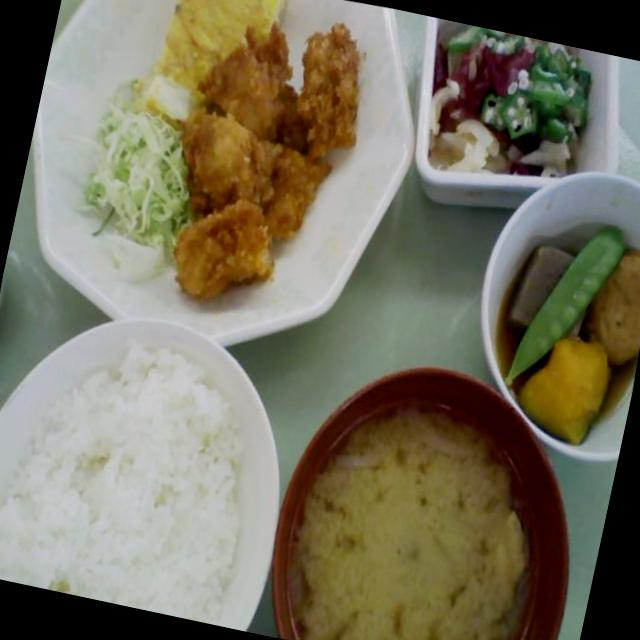Rice: (0, 316, 295, 630)
